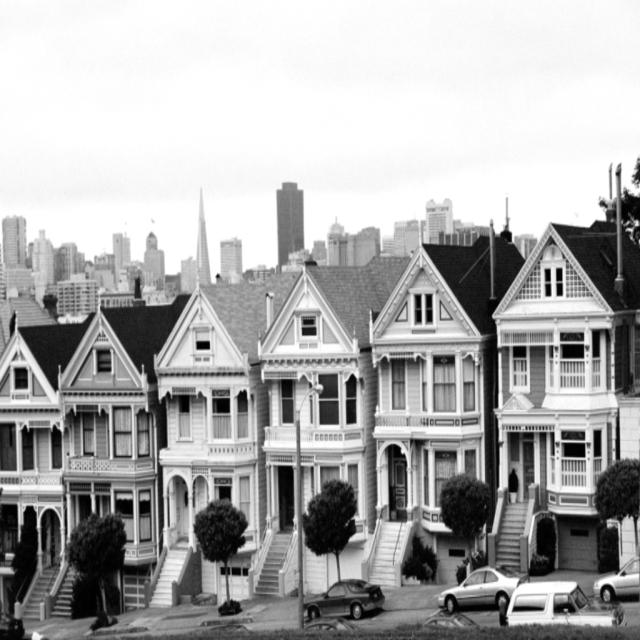car: (499, 576, 622, 628), (444, 567, 534, 627), (300, 576, 381, 624), (591, 555, 638, 603)
